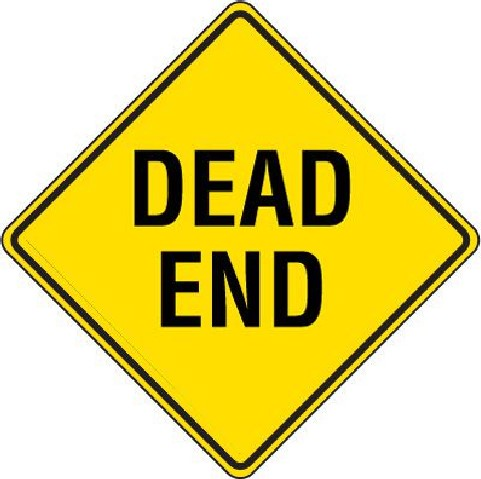Deadend: (1, 3, 480, 478)
